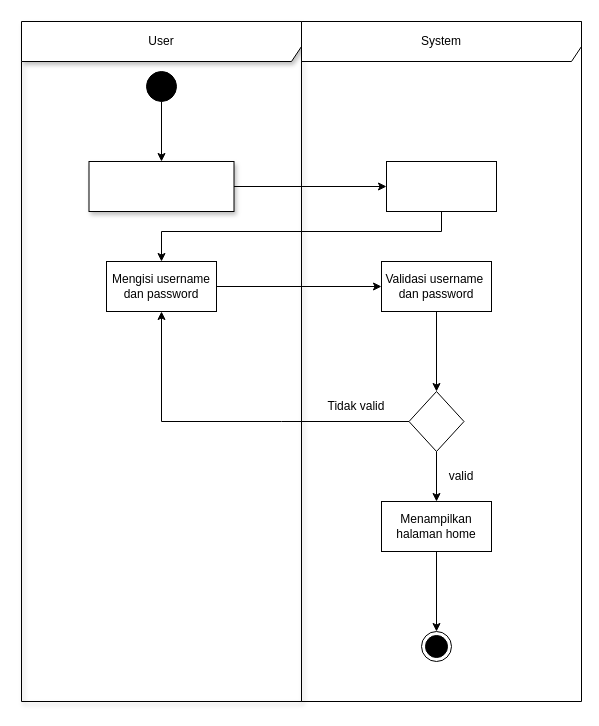
Image size: 599x726. Some labels were removed from this diagram. Here are the shapes that lost their labels. From the top down, the centre of each, then its label:
point 162,187: Membuka halamn login
point 441,186: Menampilkan form login
